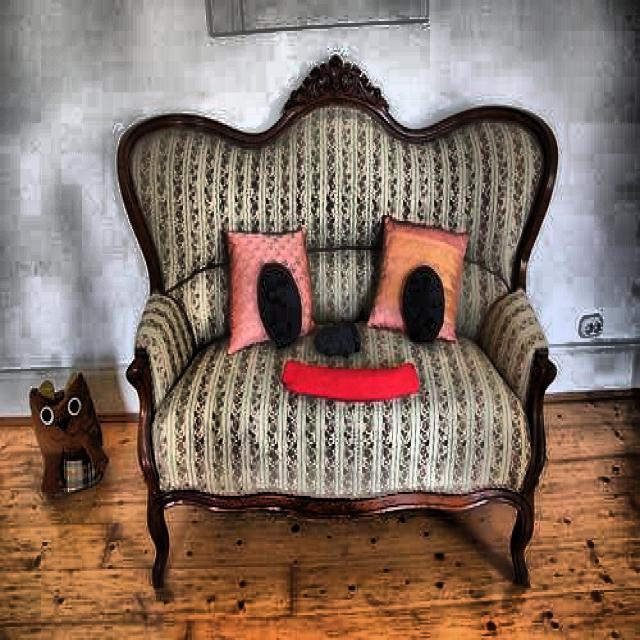sofa: (118, 56, 559, 588)
